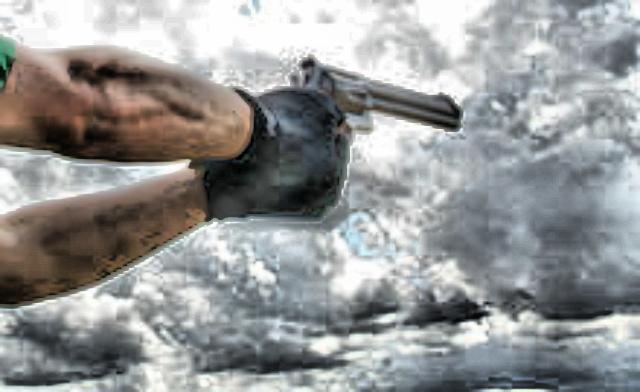pistol: (280, 52, 462, 140)
